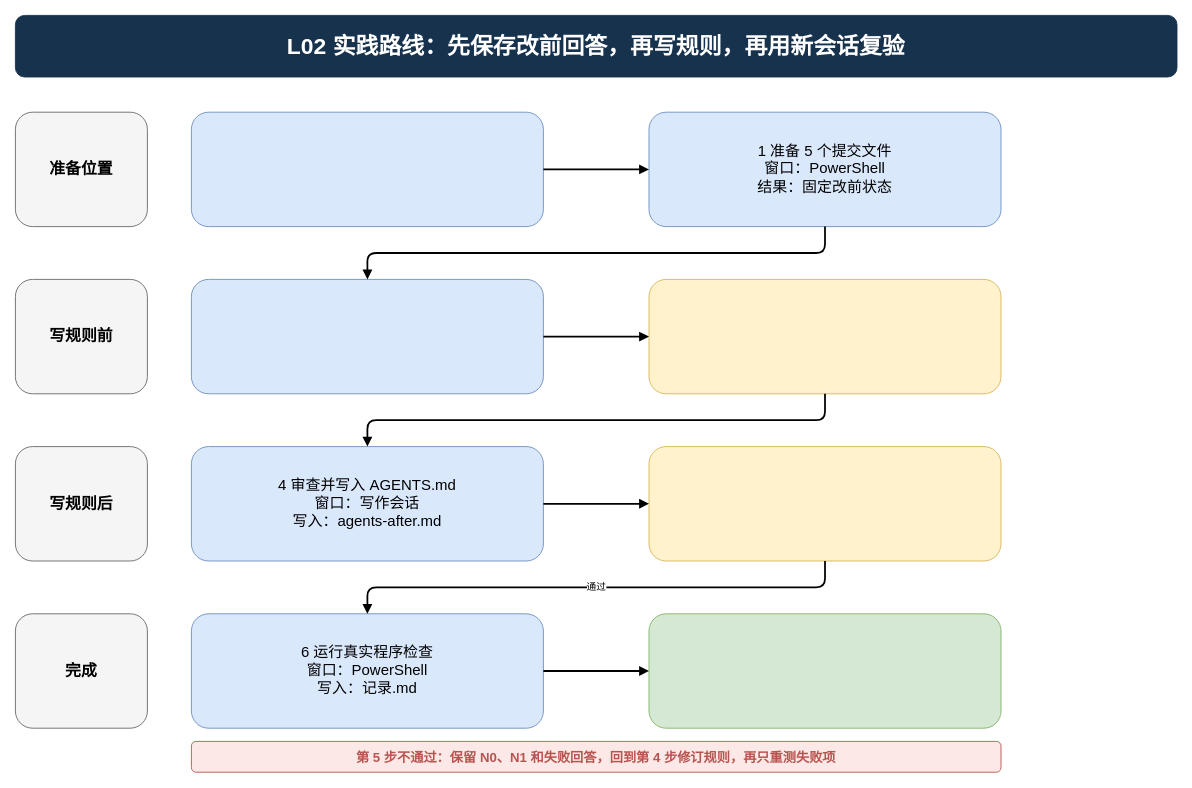
Image size: 1192x788. Some labels were removed from this diagram. The centre of each missing label's shape, as x and y in pixels:
"0 找回 L01 练习仓库 窗口：PowerShell 结果：打开正确文件夹" goes at (x=367, y=169).
"2 查事实并写本人判断 窗口：写作会话 写入：记录.md" goes at (x=367, y=336).
"3 取得修改前回答 N0 窗口：全新待测会话 写入：N0.md" goes at (x=824, y=336).
"5 取得 N1 并做三向对照 窗口：另一个全新待测会话 写入：N1-and-boundary.md" goes at (x=824, y=503).
"7 迁移判断并提交 操作者：你 结果：5 个文件齐全" goes at (x=824, y=670).
